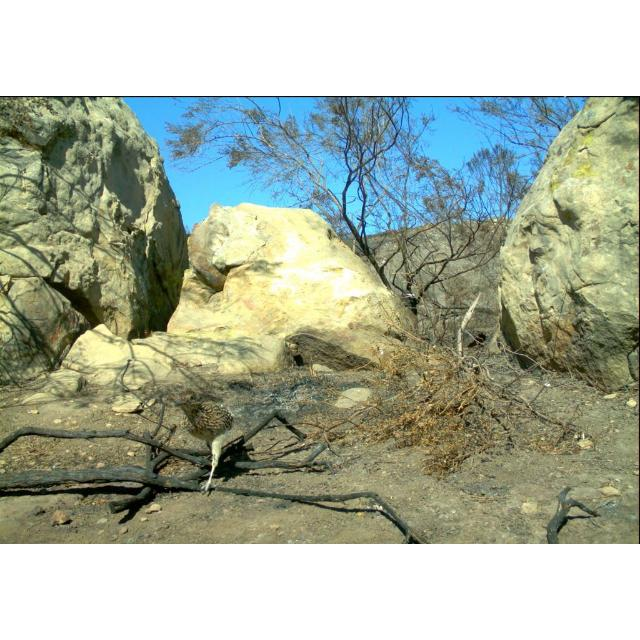animals: (168, 386, 278, 496)
